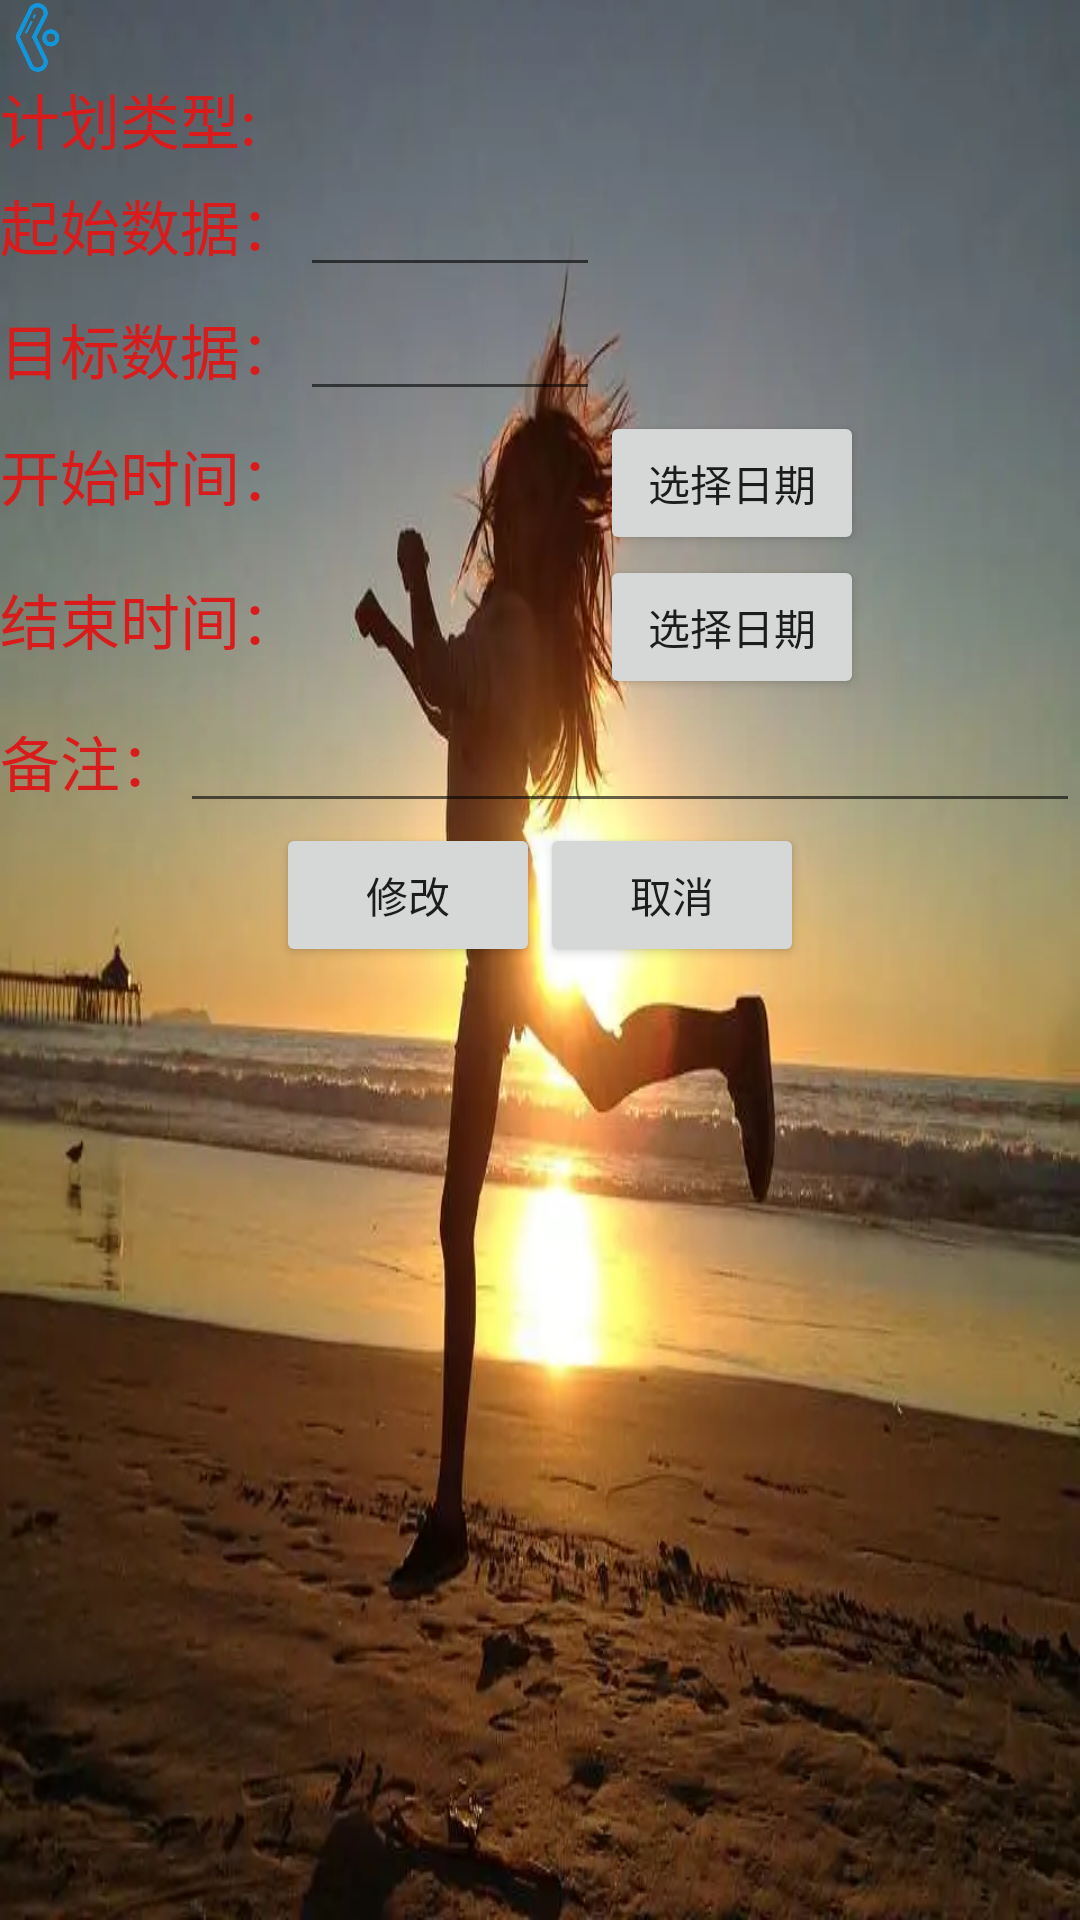

Named icons in this screenshot (1080*1920) and their centers, [x,y]:
back: [37,37]
